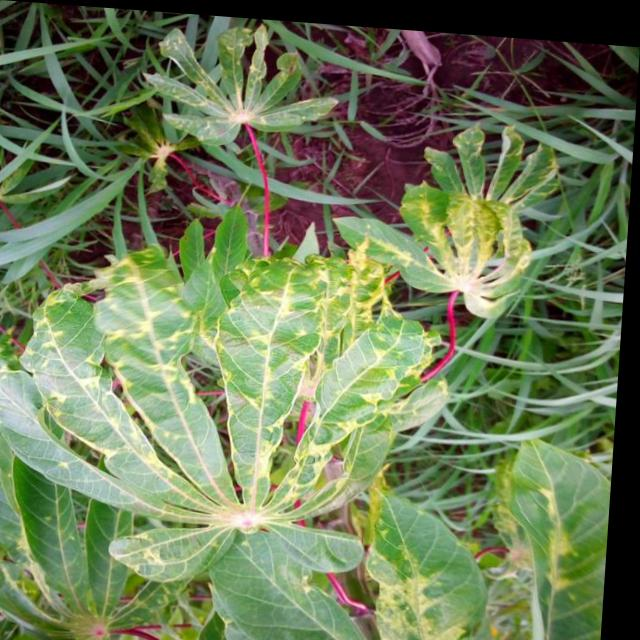Mosaico: (0, 228, 417, 567), (397, 135, 566, 316), (151, 18, 347, 140)
